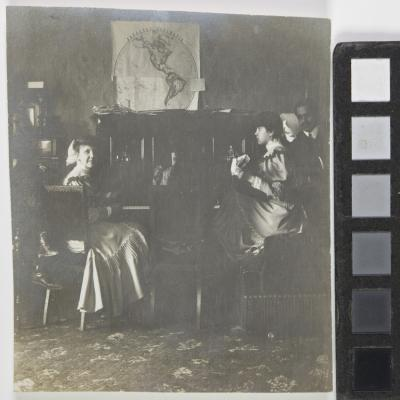photos_negatives: (0, 4, 332, 386)
